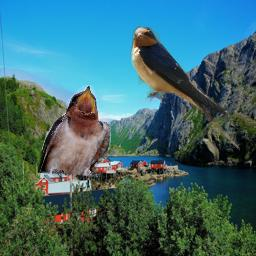Swallow: (130, 26, 241, 151), (38, 85, 111, 182)
